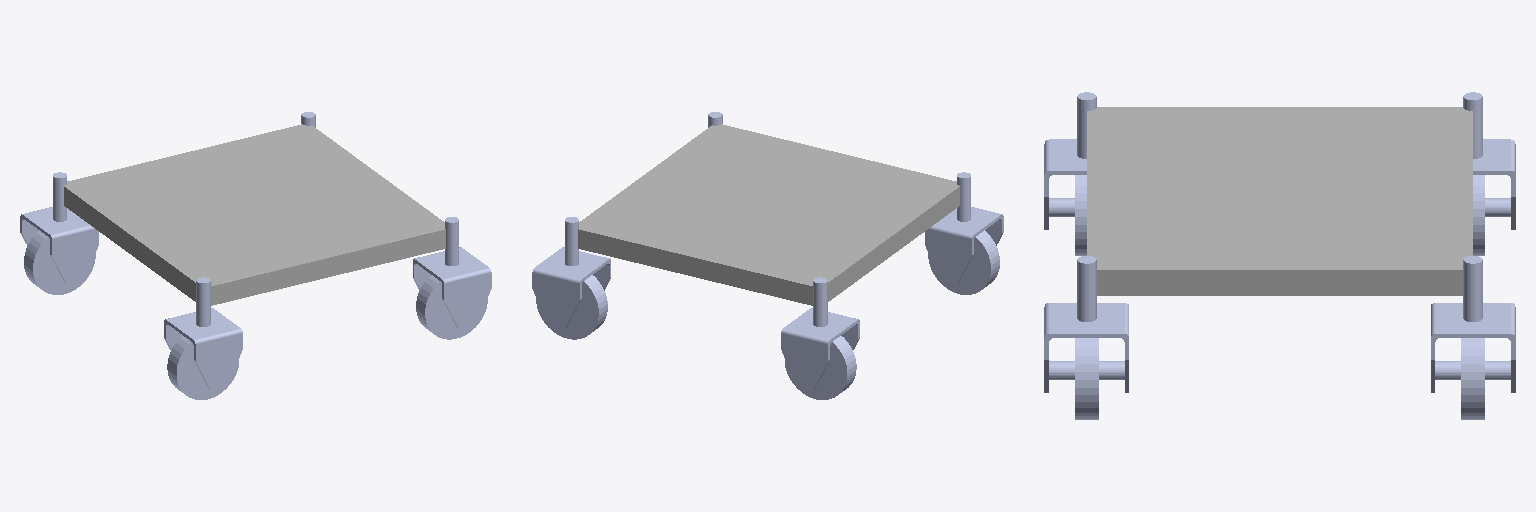
robot.urdf — test_rover_fourwheel_gazebo:
<?xml version="1.0" encoding="utf-8"?>
<!-- This URDF was automatically created by SolidWorks to URDF Exporter! Originally created by [author] ([email redacted]) 
     Commit Version: 1.6.0-1-g15f4949  Build Version: 1.6.7594.29634
     For more information, please see http://wiki.ros.org/sw_urdf_exporter -->
<robot
  name="test_rover_fourwheel_gazebo">
  
    <link name="base_link" />

  <joint name="base_link_to_chassis" type="fixed">
    <parent link="base_link"/>
    <child link="chassis_link"/>
  </joint>
  
  <link
    name="chassis_link">
    <inertial>
      <origin
        xyz="0 0 0.052818"
        rpy="0 0 0" />
      <mass
        value="2.059" />
      <inertia
        ixx="0.0083721"
        ixy="-3.336E-07"
        ixz="-4.8663E-06"
        iyy="0.010822"
        iyz="-7.9312E-11"
        izz="0.018653" />
    </inertial>
    <visual>
      <origin
        xyz="0 0 0.052818"
        rpy="0 0 0" />
      <geometry>
       	<box size="0.4 0.4 0.03" />
      </geometry>
      <material
        name="">
        <color
          rgba="0.75294 0.75294 0.75294 1" />
      </material>
    </visual>
    <collision>
      <origin
        xyz="0 0 0"
        rpy="0 0 0" />
      <geometry>
        <mesh
          filename="package://test_rover_V1/meshes/base_link.STL" />
      </geometry>
    </collision>
  </link>
  
  
  
  
      <gazebo reference="chassis_link">
      <mu1 value="200.0"/>
      <mu2 value="100.0"/>
      <kp value="10000000.0" />
      <kd value="1.0" />
      <material>Gazebo/Grey</material>
    </gazebo>
  
 
 <!--<xacro:swerve_steer prefix="1" origin_xyz="0.2 0.2 -0.087123" joint_origin_xyz="0.2 0.2 0.08" /> -->
 
 <link
    name="steer_body_1">
    <inertial>
      <origin
      	xyz="0.2 0.2 -0.087123"
        rpy="0 0 0" />
      <mass
        value="0.12388" />
      <inertia
        ixx="0.00025982"
        ixy="1.5851E-20"
        ixz="7.5308E-21"
        iyy="0.00018208"
        iyz="4.4695E-20"
        izz="1.00014529" />
    </inertial>
    <visual>
      <origin
        xyz="0 0 0"
        rpy="0 0 0" />
      <geometry>
        <mesh
          filename="package://test_rover_V1/meshes/steer_body_1.STL" />
      </geometry>
      <material
        name="">
        <color
          rgba="0.79216 0.81961 0.93333 1" />
      </material>
    </visual>
    <collision>
      <origin
        xyz="0 0 0"
        rpy="0 0 0" />
      <geometry>
        <mesh
          filename="package://test_rover_V1/meshes/steer_body_1.STL" />
      </geometry>
    </collision>
  </link>
  <joint
    name="steer_joint_1"
    type="continuous">
    <origin
      xyz="0.2 0.2 0.08"
      rpy="0 0 0" />
    <parent
      link="chassis_link" />
    <child
      link="steer_body_1" />
    <axis
      xyz="0 0 1" />
  </joint>
  <transmission name="steer_joint_1_transmission">
	  <type>transmission_interface/SimpleTransmission</type>
	  <actuator name="motor_1">
		  <mechanicalReduction>0.2</mechanicalReduction>
	  </actuator>
	  <joint name="steer_joint_1">
		  <hardwareInterface>hardware_interface/PositionJointInterface</hardwareInterface>
	  </joint>
</transmission>
  <link
    name="wheel_1">
    <inertial>
      <origin
        xyz="0 -6.9388E-18 0"
        rpy="0 0 0" />
      <mass
        value="0.19795" />
      <inertia
        ixx="0.00026531"
        ixy="-1.5846E-20"
        ixz="-2.0037E-20"
        iyy="0.0001433"
        iyz="1.3553E-20"
        izz="1.0001433" />
    </inertial>
    <visual>
      <origin
        xyz="0 0 0"
        rpy="0 0 0" />
      <geometry>
        <mesh
          filename="package://test_rover_V1/meshes/wheel_1.STL" />
      </geometry>
      <material
        name="">
        <color
          rgba="0.79216 0.81961 0.93333 1" />
      </material>
    </visual>
    <collision>
      <origin
        xyz="0 0 0"
        rpy="0 0 0" />
      <geometry>
        <mesh
          filename="package://test_rover_V1/meshes/wheel_1.STL" />
      </geometry>
    </collision>
  </link>
  <joint
    name="wheel_joint_1"
    type="continuous">
    <origin
      xyz="0 0 -0.127"
      rpy="1.6642 0 -1.5708" />
    <parent
      link="steer_body_1" />
    <child
      link="wheel_1" />
    <axis
      xyz="1 0 0" />
  </joint>
  
    <!-- This block connects the head_swivel joint to an actuator (motor), which informs both
  simulation and visualization of the robot -->
  <transmission name="wheel_joint_1">
    <type>transmission_interface/SimpleTransmission</type>
    <actuator name="wheel_motor_1">
      <mechanicalReduction>100</mechanicalReduction>
    </actuator>
    <joint name="wheel_joint_1">
      <hardwareInterface>hardware_interface/VelocityJointInterface</hardwareInterface>
    </joint>
  </transmission>
      
      <gazebo reference="wheel_1">
      <mu1 value="200.0"/>
      <mu2 value="100.0"/>
      <kp value="10000000.0" />
      <kd value="1.0" />
      <material>Gazebo/Grey</material>
    </gazebo>
 
 <!--<xacro:swerve_steer prefix="2" origin_xyz="0.2 -0.2 -0.087123" joint_origin_xyz="0.2 -0.2 0.08" />-->
 
  <link
    name="steer_body_2">
    <inertial>
      <origin
      	xyz="0.2 -0.2 -0.087123"
        rpy="0 0 0" />
      <mass
        value="0.12388" />
      <inertia
        ixx="0.00025982"
        ixy="1.5851E-20"
        ixz="7.5308E-21"
        iyy="0.00018208"
        iyz="4.4695E-20"
        izz="1.00014529" />
    </inertial>
    <visual>
      <origin
        xyz="0 0 0"
        rpy="0 0 0" />
      <geometry>
        <mesh
          filename="package://test_rover_V1/meshes/steer_body_1.STL" />
      </geometry>
      <material
        name="">
        <color
          rgba="0.79216 0.81961 0.93333 1" />
      </material>
    </visual>
    <collision>
      <origin
        xyz="0 0 0"
        rpy="0 0 0" />
      <geometry>
        <mesh
          filename="package://test_rover_V1/meshes/steer_body_1.STL" />
      </geometry>
    </collision>
  </link>
  <joint
    name="steer_joint_2"
    type="continuous">
    <origin
      xyz="0.2 -0.2 0.08"
      rpy="0 0 0" />
    <parent
      link="chassis_link" />
    <child
      link="steer_body_2" />
    <axis
      xyz="0 0 1" />
  </joint>
  <transmission name="steer_joint_2_transmission">
	  <type>transmission_interface/SimpleTransmission</type>
	  <actuator name="motor_2">
		  <mechanicalReduction>0.2</mechanicalReduction>
	  </actuator>
	  <joint name="steer_joint_2">
		  <hardwareInterface>hardware_interface/PositionJointInterface</hardwareInterface>
	  </joint>
</transmission>
  <link
    name="wheel_2">
    <inertial>
      <origin
        xyz="0 -6.9388E-18 0"
        rpy="0 0 0" />
      <mass
        value="0.19795" />
      <inertia
        ixx="0.00026531"
        ixy="-1.5846E-20"
        ixz="-2.0037E-20"
        iyy="0.0001433"
        iyz="1.3553E-20"
        izz="1.0001433" />
    </inertial>
    <visual>
      <origin
        xyz="0 0 0"
        rpy="0 0 0" />
      <geometry>
        <mesh
          filename="package://test_rover_V1/meshes/wheel_1.STL" />
      </geometry>
      <material
        name="">
        <color
          rgba="0.79216 0.81961 0.93333 1" />
      </material>
    </visual>
    <collision>
      <origin
        xyz="0 0 0"
        rpy="0 0 0" />
      <geometry>
        <mesh
          filename="package://test_rover_V1/meshes/wheel_1.STL" />
      </geometry>
    </collision>
  </link>
  <joint
    name="wheel_joint_2"
    type="continuous">
    <origin
      xyz="0 0 -0.127"
      rpy="1.6642 0 -1.5708" />
    <parent
      link="steer_body_2" />
    <child
      link="wheel_2" />
    <axis
      xyz="1 0 0" />
  </joint>
  
    <!-- This block connects the head_swivel joint to an actuator (motor), which informs both
  simulation and visualization of the robot -->
  <transmission name="wheel_joint_2">
    <type>transmission_interface/SimpleTransmission</type>
    <actuator name="wheel_motor_2">
      <mechanicalReduction>100</mechanicalReduction>
    </actuator>
    <joint name="wheel_joint_2">
      <hardwareInterface>hardware_interface/VelocityJointInterface</hardwareInterface>
    </joint>
  </transmission>
      
      <gazebo reference="wheel_2">
      <mu1 value="200.0"/>
      <mu2 value="100.0"/>
      <kp value="10000000.0" />
      <kd value="1.0" />
      <material>Gazebo/Grey</material>
    </gazebo>
 
 
 <!--<xacro:swerve_steer prefix="3" origin_xyz="-0.2 0.2 -0.087123" joint_origin_xyz="-0.2 0.2 0.08" />-->
 
   <link
    name="steer_body_3">
    <inertial>
      <origin
      	xyz="-0.2 0.2 -0.087123"
        rpy="0 0 0" />
      <mass
        value="0.12388" />
      <inertia
        ixx="0.00025982"
        ixy="1.5851E-20"
        ixz="7.5308E-21"
        iyy="0.00018208"
        iyz="4.4695E-20"
        izz="1.00014529" />
    </inertial>
    <visual>
      <origin
        xyz="0 0 0"
        rpy="0 0 0" />
      <geometry>
        <mesh
          filename="package://test_rover_V1/meshes/steer_body_1.STL" />
      </geometry>
      <material
        name="">
        <color
          rgba="0.79216 0.81961 0.93333 1" />
      </material>
    </visual>
    <collision>
      <origin
        xyz="0 0 0"
        rpy="0 0 0" />
      <geometry>
        <mesh
          filename="package://test_rover_V1/meshes/steer_body_1.STL" />
      </geometry>
    </collision>
  </link>
  <joint
    name="steer_joint_3"
    type="continuous">
    <origin
      xyz="-0.2 0.2 0.08"
      rpy="0 0 0" />
    <parent
      link="chassis_link" />
    <child
      link="steer_body_3" />
    <axis
      xyz="0 0 1" />
  </joint>
  <transmission name="steer_joint_3_transmission">
	  <type>transmission_interface/SimpleTransmission</type>
	  <actuator name="motor_3">
		  <mechanicalReduction>0.2</mechanicalReduction>
	  </actuator>
	  <joint name="steer_joint_3">
		  <hardwareInterface>hardware_interface/PositionJointInterface</hardwareInterface>
	  </joint>
</transmission>
  <link
    name="wheel_3">
    <inertial>
      <origin
        xyz="0 -6.9388E-18 0"
        rpy="0 0 0" />
      <mass
        value="0.19795" />
      <inertia
        ixx="0.00026531"
        ixy="-1.5846E-20"
        ixz="-2.0037E-20"
        iyy="0.0001433"
        iyz="1.3553E-20"
        izz="1.0001433" />
    </inertial>
    <visual>
      <origin
        xyz="0 0 0"
        rpy="0 0 0" />
      <geometry>
        <mesh
          filename="package://test_rover_V1/meshes/wheel_1.STL" />
      </geometry>
      <material
        name="">
        <color
          rgba="0.79216 0.81961 0.93333 1" />
      </material>
    </visual>
    <collision>
      <origin
        xyz="0 0 0"
        rpy="0 0 0" />
      <geometry>
        <mesh
          filename="package://test_rover_V1/meshes/wheel_1.STL" />
      </geometry>
    </collision>
  </link>
  <joint
    name="wheel_joint_3"
    type="continuous">
    <origin
      xyz="0 0 -0.127"
      rpy="1.6642 0 -1.5708" />
    <parent
      link="steer_body_3" />
    <child
      link="wheel_3" />
    <axis
      xyz="1 0 0" />
  </joint>
  
    <!-- This block connects the head_swivel joint to an actuator (motor), which informs both
  simulation and visualization of the robot -->
  <transmission name="wheel_joint_3">
    <type>transmission_interface/SimpleTransmission</type>
    <actuator name="wheel_motor_3">
      <mechanicalReduction>100</mechanicalReduction>
    </actuator>
    <joint name="wheel_joint_3">
      <hardwareInterface>hardware_interface/VelocityJointInterface</hardwareInterface>
    </joint>
  </transmission>
      
      <gazebo reference="wheel_3">
      <mu1 value="200.0"/>
      <mu2 value="100.0"/>
      <kp value="10000000.0" />
      <kd value="1.0" />
      <material>Gazebo/Grey</material>
    </gazebo>
 
 
 
 
 
 
 
 
 
 <!--<xacro:swerve_steer prefix="4" origin_xyz="-0.2 -0.2 -0.087123" joint_origin_xyz="-0.2 -0.2 0.08" /> -->
  
  
 
   <link
    name="steer_body_4">
    <inertial>
      <origin
      	xyz="-0.2 -0.2 -0.087123"
        rpy="0 0 0" />
      <mass
        value="0.12388" />
      <inertia
        ixx="0.00025982"
        ixy="1.5851E-20"
        ixz="7.5308E-21"
        iyy="0.00018208"
        iyz="4.4695E-20"
        izz="1.00014529" />
    </inertial>
    <visual>
      <origin
        xyz="0 0 0"
        rpy="0 0 0" />
      <geometry>
        <mesh
          filename="package://test_rover_V1/meshes/steer_body_1.STL" />
      </geometry>
      <material
        name="">
        <color
          rgba="0.79216 0.81961 0.93333 1" />
      </material>
    </visual>
    <collision>
      <origin
        xyz="0 0 0"
        rpy="0 0 0" />
      <geometry>
        <mesh
          filename="package://test_rover_V1/meshes/steer_body_1.STL" />
      </geometry>
    </collision>
  </link>
  <joint
    name="steer_joint_4"
    type="continuous">
    <origin
      xyz="-0.2 -0.2 0.08"
      rpy="0 0 0" />
    <parent
      link="chassis_link" />
    <child
      link="steer_body_4" />
    <axis
      xyz="0 0 1" />
  </joint>
  <transmission name="steer_joint_4_transmission">
	  <type>transmission_interface/SimpleTransmission</type>
	  <actuator name="motor_4">
		  <mechanicalReduction>0.2</mechanicalReduction>
	  </actuator>
	  <joint name="steer_joint_4">
		  <hardwareInterface>hardware_interface/PositionJointInterface</hardwareInterface>
	  </joint>
</transmission>
  <link
    name="wheel_4">
    <inertial>
      <origin
        xyz="0 -6.9388E-18 0"
        rpy="0 0 0" />
      <mass
        value="0.19795" />
      <inertia
        ixx="0.00026531"
        ixy="-1.5846E-20"
        ixz="-2.0037E-20"
        iyy="0.0001433"
        iyz="1.3553E-20"
        izz="1.0001433" />
    </inertial>
    <visual>
      <origin
        xyz="0 0 0"
        rpy="0 0 0" />
      <geometry>
        <mesh
          filename="package://test_rover_V1/meshes/wheel_1.STL" />
      </geometry>
      <material
        name="">
        <color
          rgba="0.79216 0.81961 0.93333 1" />
      </material>
    </visual>
    <collision>
      <origin
        xyz="0 0 0"
        rpy="0 0 0" />
      <geometry>
        <mesh
          filename="package://test_rover_V1/meshes/wheel_1.STL" />
      </geometry>
    </collision>
  </link>
  <joint
    name="wheel_joint_4"
    type="continuous">
    <origin
      xyz="0 0 -0.127"
      rpy="1.6642 0 -1.5708" />
    <parent
      link="steer_body_4" />
    <child
      link="wheel_4" />
    <axis
      xyz="1 0 0" />
  </joint>
  
    <!-- This block connects the head_swivel joint to an actuator (motor), which informs both
  simulation and visualization of the robot -->
  <transmission name="wheel_joint_4">
    <type>transmission_interface/SimpleTransmission</type>
    <actuator name="wheel_motor_4">
      <mechanicalReduction>100</mechanicalReduction>
    </actuator>
    <joint name="wheel_joint_4">
      <hardwareInterface>hardware_interface/VelocityJointInterface</hardwareInterface>
    </joint>
  </transmission>
      
      <gazebo reference="wheel_4">
      <mu1 value="200.0"/>
      <mu2 value="100.0"/>
      <kp value="10000000.0" />
      <kd value="1.0" />
      <material>Gazebo/Grey</material>
    </gazebo>
  
 <!-- Gazebo plugin for ROS Control -->
   <gazebo>
    <plugin name="gazebo_ros_control" filename="libgazebo_ros_control.so">
      <robotNamespace>/</robotNamespace>
    </plugin>
  </gazebo>
</robot>

--- What the picture shows (computed from the rendered views, not written in the file) ---
3 views of the same robot in one strip: view 1: azimuth 30°, elevation 25°; view 2: azimuth 150°, elevation 25°; view 3: azimuth 270°, elevation 25° (orthographic).
Model test_rover_fourwheel_gazebo with 10 links and 9 joints (8 continuous, 1 fixed), rooted at base_link, posed all joints at 0.
Links seen in each view (by area): view 1: chassis_link, steer_body_4, steer_body_2, steer_body_3, wheel_4, wheel_3, wheel_2; view 2: chassis_link, steer_body_3, steer_body_1, steer_body_4, wheel_3, wheel_4, wheel_1; view 3: chassis_link, steer_body_1, steer_body_2, steer_body_3, steer_body_4, wheel_1, wheel_2, wheel_3, wheel_4.
Link boxes in pixels (x1,y1,x2,y2): chassis_link: (64, 124, 445, 305); steer_body_4: (164, 277, 242, 388); steer_body_2: (413, 217, 491, 327); steer_body_3: (20, 172, 98, 283); wheel_4: (167, 336, 238, 399); wheel_3: (24, 230, 95, 294); wheel_2: (416, 275, 487, 339); chassis_link: (578, 124, 959, 305); steer_body_3: (781, 277, 859, 388); steer_body_1: (532, 217, 610, 327); steer_body_4: (925, 172, 1003, 283); wheel_3: (785, 336, 856, 399); wheel_4: (928, 230, 999, 294); wheel_1: (536, 275, 607, 339); chassis_link: (1087, 107, 1472, 295); steer_body_1: (1431, 256, 1515, 392); steer_body_2: (1044, 256, 1128, 392); steer_body_3: (1463, 92, 1515, 229); steer_body_4: (1044, 92, 1096, 229); wheel_1: (1461, 338, 1484, 419); wheel_2: (1075, 338, 1098, 419); wheel_3: (1473, 175, 1484, 255); wheel_4: (1075, 175, 1086, 255).
Bounding box of the posed robot: 0.5013 × 0.488 × 0.1778 m (x, y, z).
Meshes: 2 distinct files referenced, 8 mesh visuals loaded (2 binary STL).